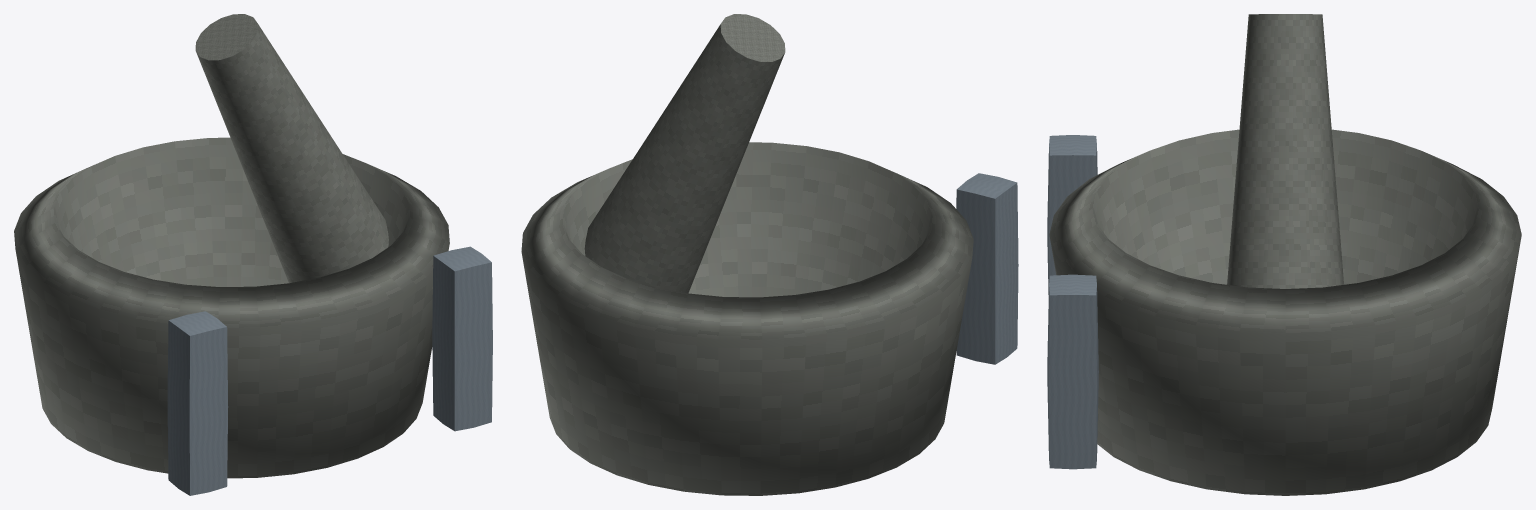
3 renders of one model, left to right at view 1: azimuth 30°, elevation 25°; view 2: azimuth 150°, elevation 25°; view 3: azimuth 270°, elevation 25°, orthographic. The views are drawn at different scales.
Parts seen in each view (by area): view 1: stone.0, stone.1, steel.2, steel.3; view 2: stone.0, stone.1, steel.2; view 3: stone.0, stone.1, steel.3, steel.2.
Boxes of the visible parts, x1,y1,x2,y2 form: stone.0: [14, 137, 449, 478]; stone.1: [195, 14, 388, 283]; steel.2: [167, 311, 228, 495]; steel.3: [432, 246, 492, 431]; stone.0: [521, 142, 973, 495]; stone.1: [584, 14, 785, 293]; steel.2: [956, 173, 1018, 364]; stone.0: [1049, 129, 1521, 495]; stone.1: [1227, 14, 1343, 288]; steel.3: [1047, 274, 1098, 469]; steel.2: [1047, 135, 1097, 294].
Size of the model in its own units: 0.32 by 0.3234 by 0.3215.
2 materials, 2 textured.
